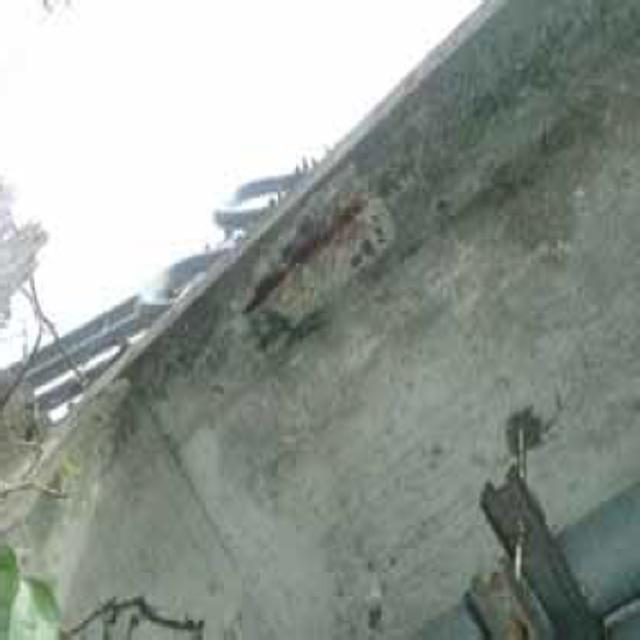spalling: (240, 177, 393, 319)
